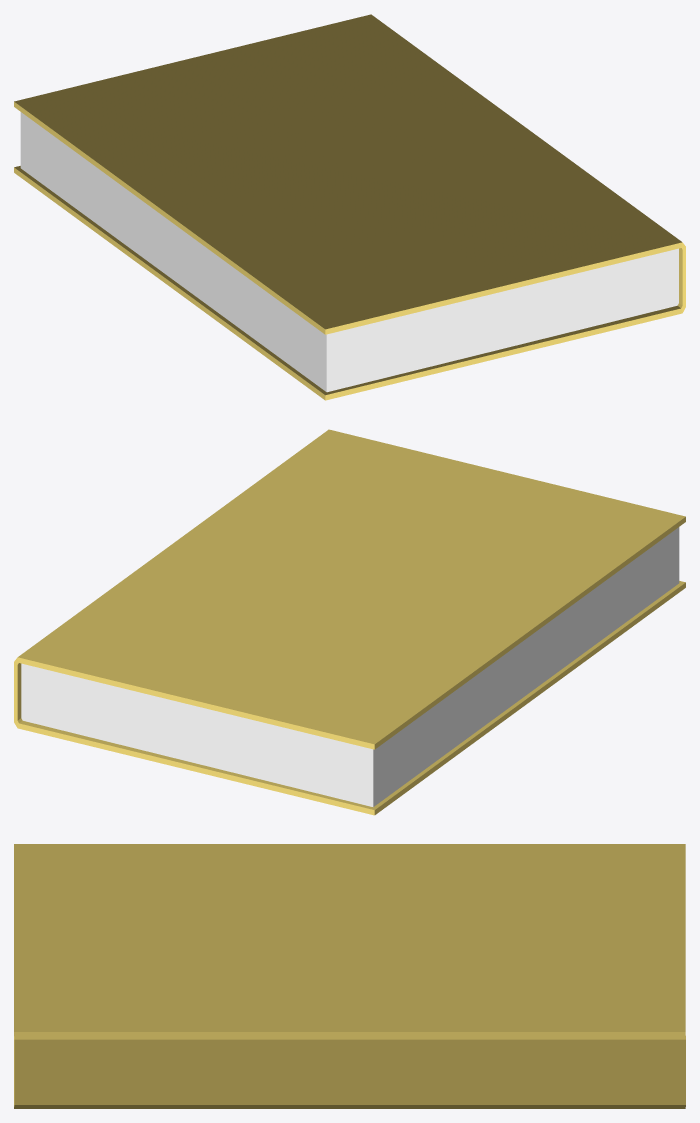
The model's file is Book 4.fbx.
3 views of the same model, one above another, from view 1: azimuth 30°, elevation 25°; view 2: azimuth 150°, elevation 25°; view 3: azimuth 270°, elevation 25° (orthographic). The views are drawn at different scales.
Parts seen in each view (by area): view 1: Node 0; view 2: Node 0; view 3: Node 0.
Boxes of the visible parts, x1=… form: Node 0: x1=14, y1=14, x2=685, y2=400; Node 0: x1=14, y1=429, x2=685, y2=815; Node 0: x1=14, y1=844, x2=685, y2=1108.
Bounding box in the file's own units: 0.2497 × 0.0315 × 0.1669.
